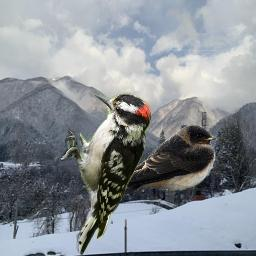Swallow: (102, 124, 218, 203)
Woodpecker: (61, 90, 151, 256)
